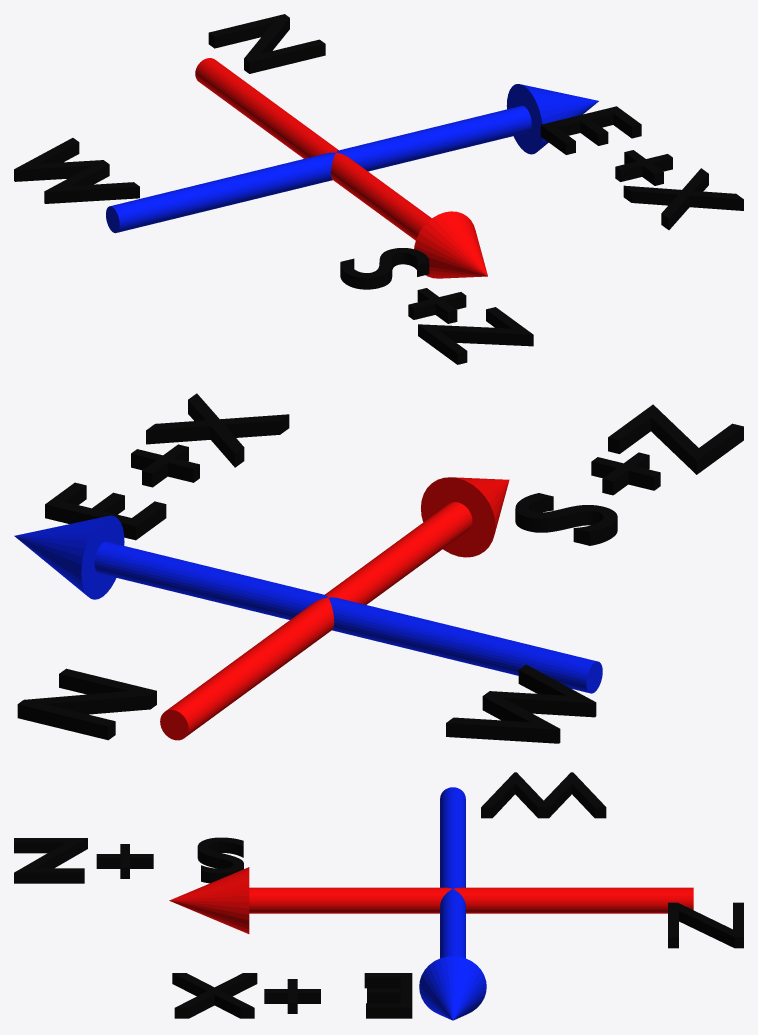
File: compass.glb
The picture shows the model from 3 angles, top to bottom: view 1: azimuth 30°, elevation 25°; view 2: azimuth 150°, elevation 25°; view 3: azimuth 270°, elevation 25°; orthographic projection. The views are drawn at different scales.
Visible parts, largest first — view 1: Cylinder.001; view 2: Cylinder.001; view 3: Cylinder.001.
Part boxes in pixels (bbox=[...]): Cylinder.001: bbox=[14, 14, 743, 364]; Cylinder.001: bbox=[14, 393, 743, 743]; Cylinder.001: bbox=[14, 772, 743, 1020].
Size of the model in its own units: 2.33 by 0.2807 by 3.03.
